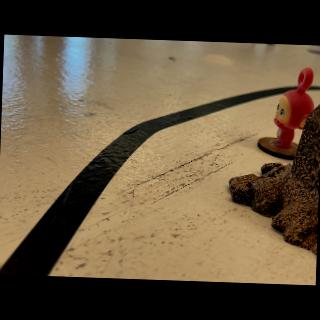teletubby: (274, 68, 315, 149)
